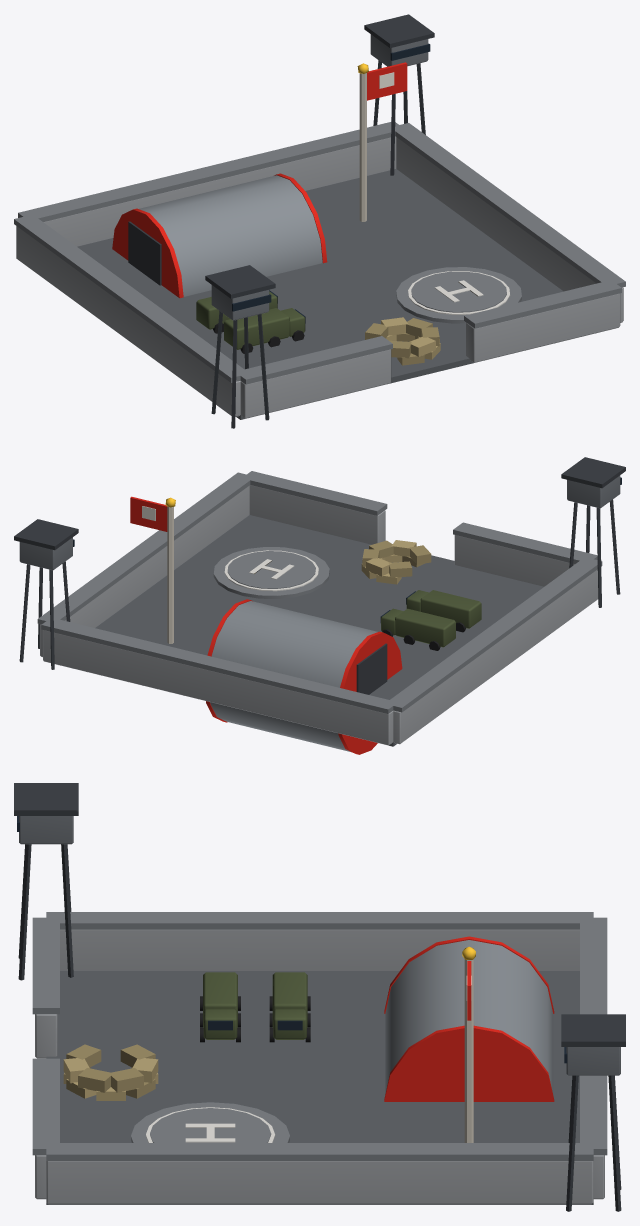
Rendered from military_base_modern_red.glb.
3 views of the same model, one above another, from view 1: azimuth 30°, elevation 25°; view 2: azimuth 150°, elevation 25°; view 3: azimuth 270°, elevation 25° (orthographic). The views are drawn at different scales.
Visible parts, largest first — view 1: military_base_modern_red; view 2: military_base_modern_red; view 3: military_base_modern_red.
Boxes of the visible parts, x1,y1,x2,y2 form: military_base_modern_red: [14, 14, 625, 428]; military_base_modern_red: [14, 457, 625, 754]; military_base_modern_red: [14, 783, 625, 1211].
Size of the model in its own units: 1.23 by 0.618 by 1.23.
Materials: 1 (1 with a texture image).
